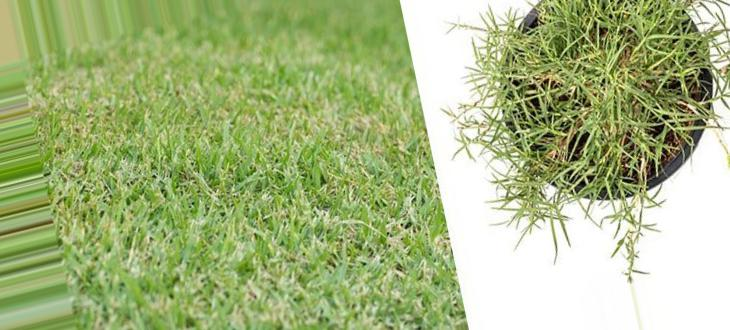patch: (229, 92, 333, 139), (661, 143, 696, 163)
